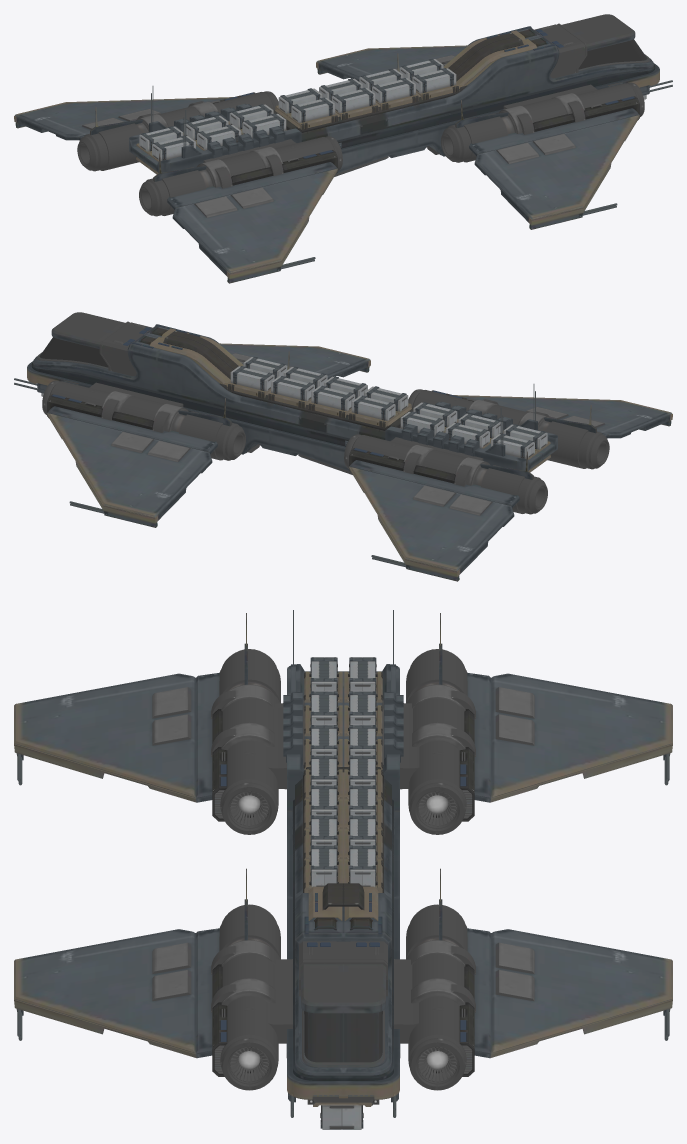
File: cargo-keremz.glb
The picture shows the model from 3 angles, top to bottom: view 1: azimuth 30°, elevation 25°; view 2: azimuth 150°, elevation 25°; view 3: azimuth 270°, elevation 25°; orthographic projection. The views are drawn at different scales.
Parts seen in each view (by area): view 1: root; view 2: root; view 3: root.
Part boxes in pixels (x1=…): root: x1=14, y1=14, x2=672, y2=283; root: x1=14, y1=312, x2=672, y2=581; root: x1=14, y1=610, x2=672, y2=1129.
Size of the model in its own units: 70 by 15.52 by 48.36.
1 material, 1 textured.
